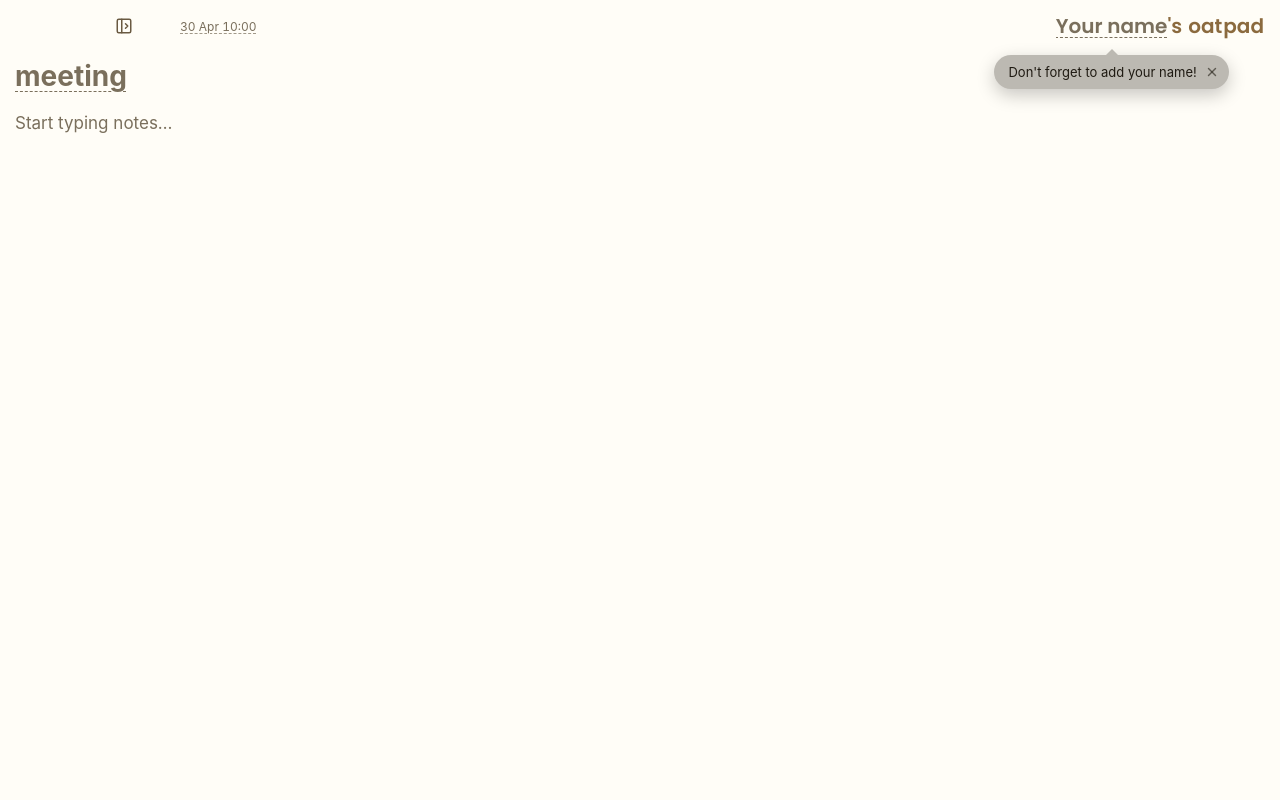
Test: App — coachmark visibility › dismissing the coachmark hides it for the rest of the session
This screenshot has width=1280, height=800.
Click the button with class "close": (1212, 72) [1201,61,1223,83]
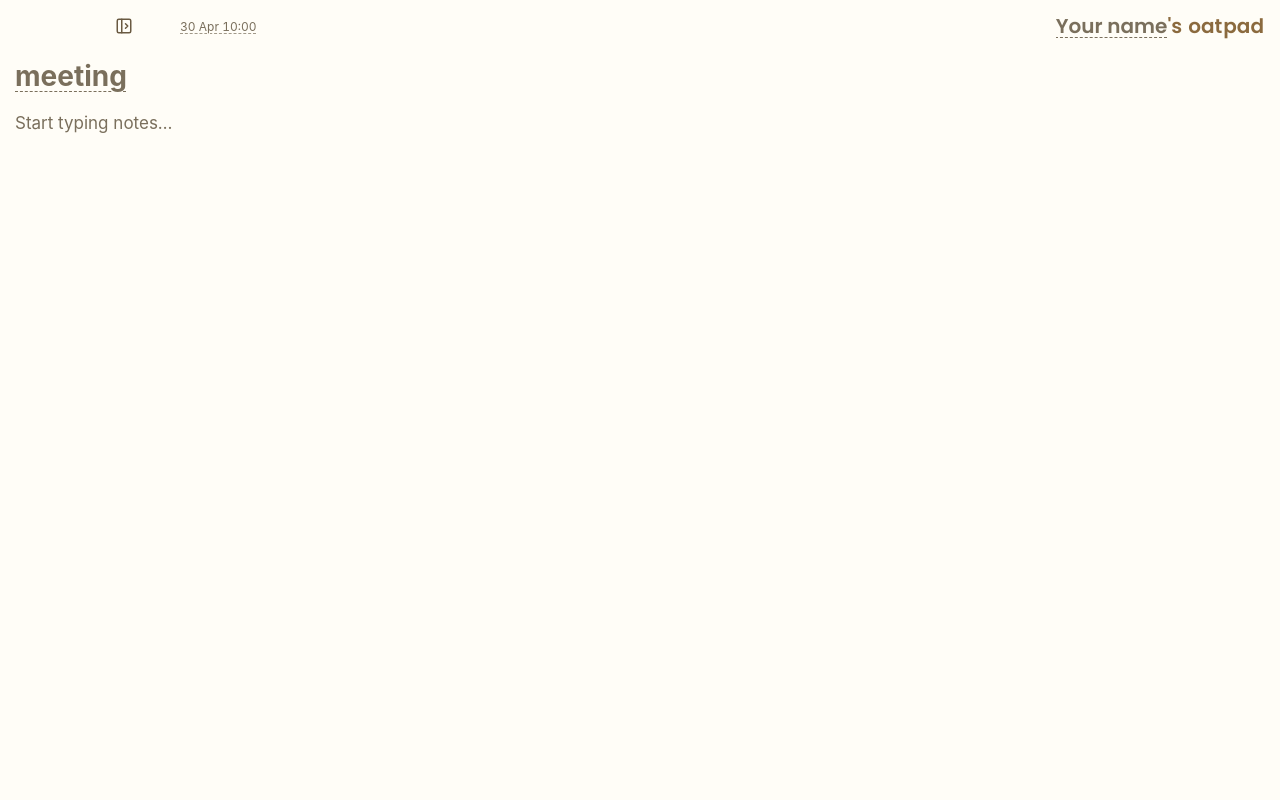
expect the dialog with class "coachmark" is gone: met
